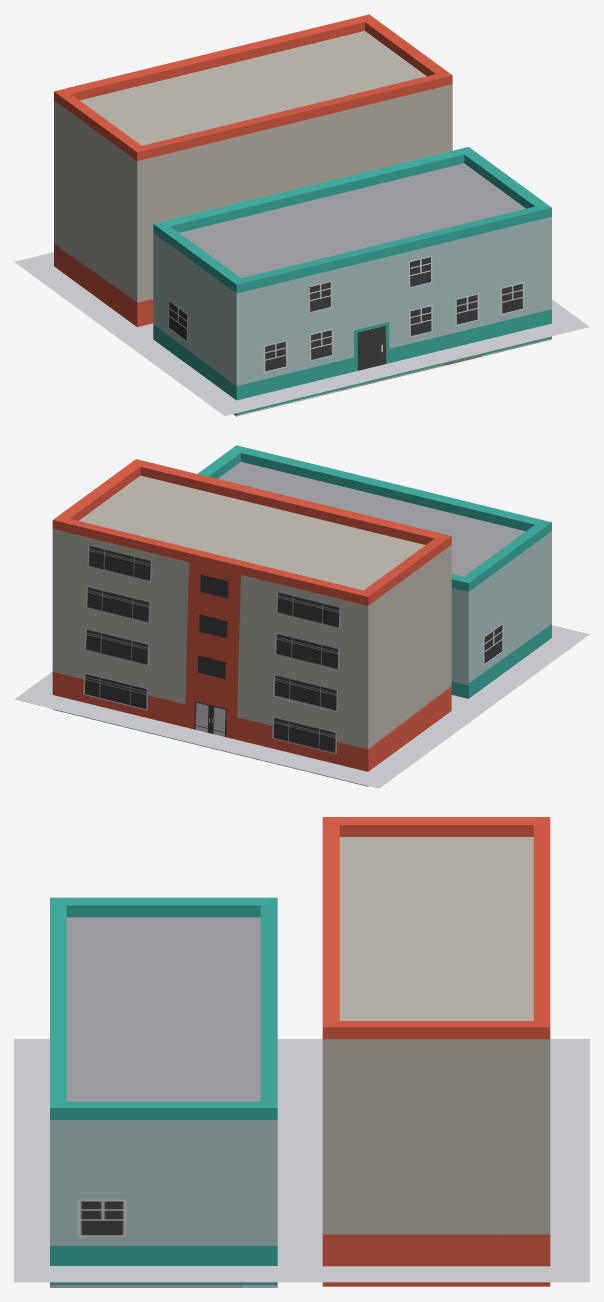
Rendered from 2immeubles_5.glb.
The picture shows the model from 3 angles, top to bottom: view 1: azimuth 30°, elevation 25°; view 2: azimuth 150°, elevation 25°; view 3: azimuth 270°, elevation 25°; orthographic projection. The views are drawn at different scales.
Parts seen in each view (by area): view 1: coucou; view 2: coucou; view 3: coucou.
Part boxes in pixels (x1=…): coucou: x1=14, y1=14, x2=589, y2=416; coucou: x1=14, y1=445, x2=589, y2=788; coucou: x1=14, y1=817, x2=589, y2=1287.
Size of the model in its own units: 15 by 7.5 by 15.
1 material, 1 textured.
